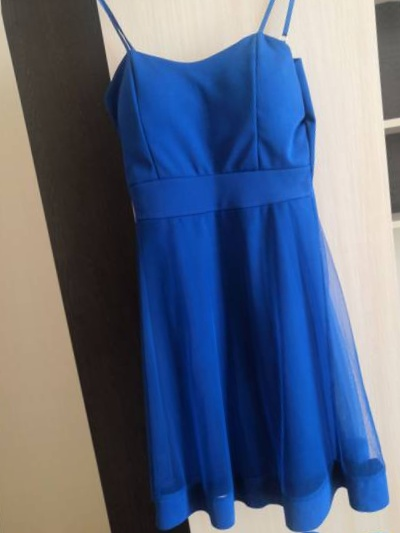Dress: (49, 5, 400, 533), (117, 529, 400, 533)
